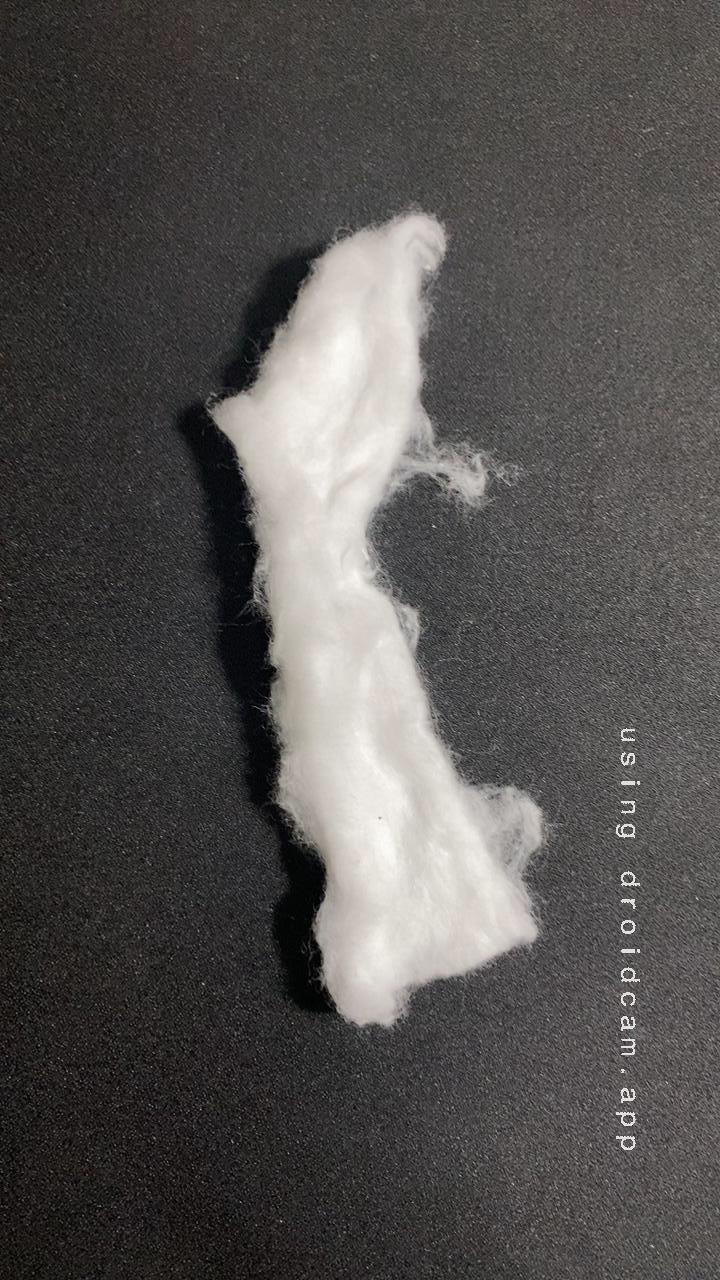cotton: (165, 176, 570, 908)
